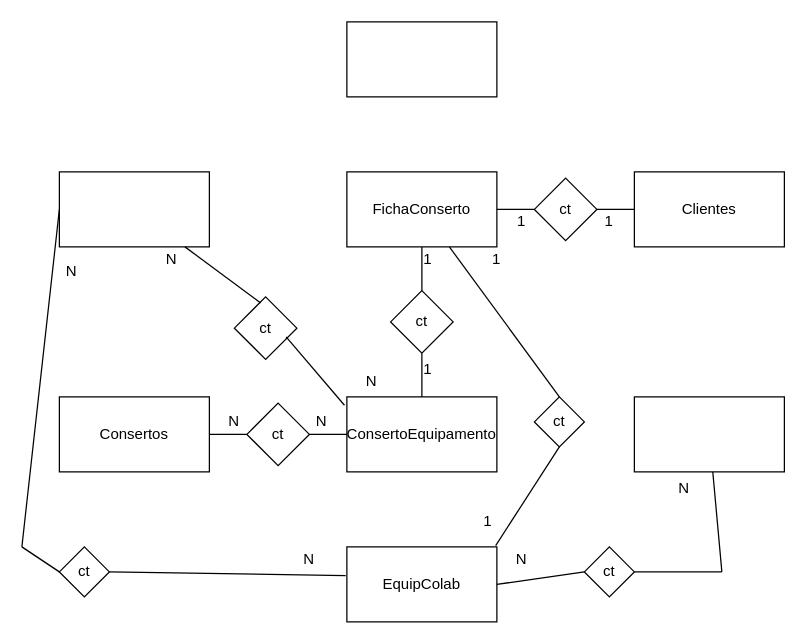
The diagram is 806 pixels wide and 644 high, and some of its shapes have lost their labels. Each missing label, with the centre of its shape:
"Colaboradores" belongs at point 708,434.
"Conceitual" belongs at point 421,59.
"Equipamentos" belongs at point 133,209.
